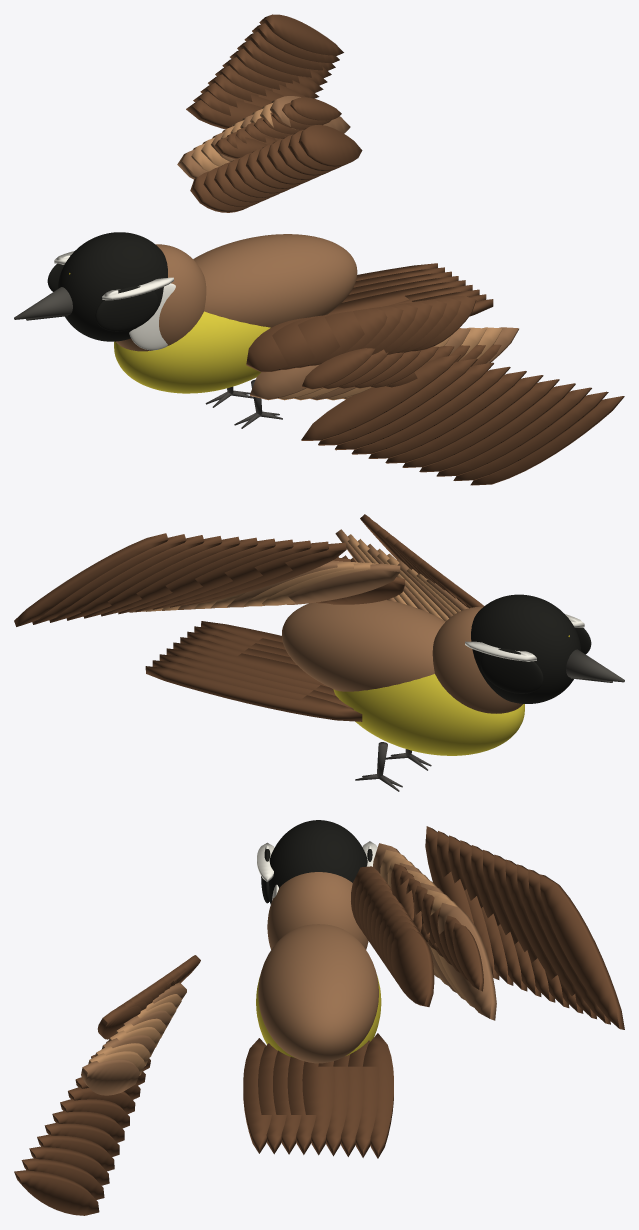
The model's file is bichofueHighpoly.glb.
3 views of the same model, one above another, from view 1: azimuth 30°, elevation 25°; view 2: azimuth 150°, elevation 25°; view 3: azimuth 270°, elevation 25° (orthographic). The views are drawn at different scales.
Parts seen in each view (by area): view 1: Brown_Back, Yellow_Belly, Black_Head, Primary_-1_00, Neck, Primary_-1_06, Primary_-1_03, Primary_-1_05, Primary_-1_08, Primary_-1_04, Primary_-1_07, Primary_-1_01 (+36 smaller); view 2: Brown_Back, Yellow_Belly, Black_Head, Neck, Tail_08, Primary_1_10, Wing_1_00, Face_1, Tail_04, Primary_1_09, Primary_1_07, Primary_1_08 (+23 smaller); view 3: Brown_Back, Neck, Black_Head, Primary_1_10, Covert_1_10, Primary_-1_10, Tail_04, Wing_1_09, Tail_08, Tail_00, Wing_-1_09, Tail_07 (+26 smaller).
Boxes of the visible parts, x1,y1,x2,y2 form: Brown_Back: (193, 234, 357, 327); Yellow_Belly: (114, 311, 270, 393); Black_Head: (57, 232, 167, 341); Primary_-1_00: (301, 354, 460, 440); Neck: (116, 244, 206, 351); Primary_-1_06: (402, 379, 559, 467); Primary_-1_03: (351, 366, 510, 454); Primary_-1_05: (385, 375, 543, 463); Primary_-1_08: (436, 387, 591, 476); Primary_-1_04: (368, 371, 526, 458); Primary_-1_07: (419, 383, 575, 472); Primary_-1_01: (318, 358, 477, 445); Brown_Back: (282, 600, 445, 691); Yellow_Belly: (333, 674, 524, 755); Black_Head: (471, 594, 581, 703); Neck: (432, 606, 522, 713); Tail_08: (145, 666, 362, 721); Primary_1_10: (14, 533, 168, 626); Wing_1_00: (287, 563, 400, 604); Face_1: (480, 648, 543, 693); Tail_04: (173, 642, 322, 685); Primary_1_09: (32, 534, 186, 624); Primary_1_07: (66, 536, 222, 620); Primary_1_08: (49, 535, 204, 622); Brown_Back: (258, 924, 378, 1063); Neck: (267, 872, 368, 949); Black_Head: (269, 820, 367, 904); Primary_1_10: (539, 874, 624, 1029); Covert_1_10: (391, 928, 434, 1006); Primary_-1_10: (14, 1170, 99, 1215); Tail_04: (302, 1061, 334, 1155); Wing_1_09: (437, 903, 496, 1020); Tail_08: (363, 1033, 393, 1158); Tail_00: (243, 1038, 271, 1153); Wing_-1_09: (81, 1059, 139, 1095); Tail_07: (348, 1040, 379, 1157).
Bounding box in the file's own units: 5.11 × 3.27 × 5.36.
